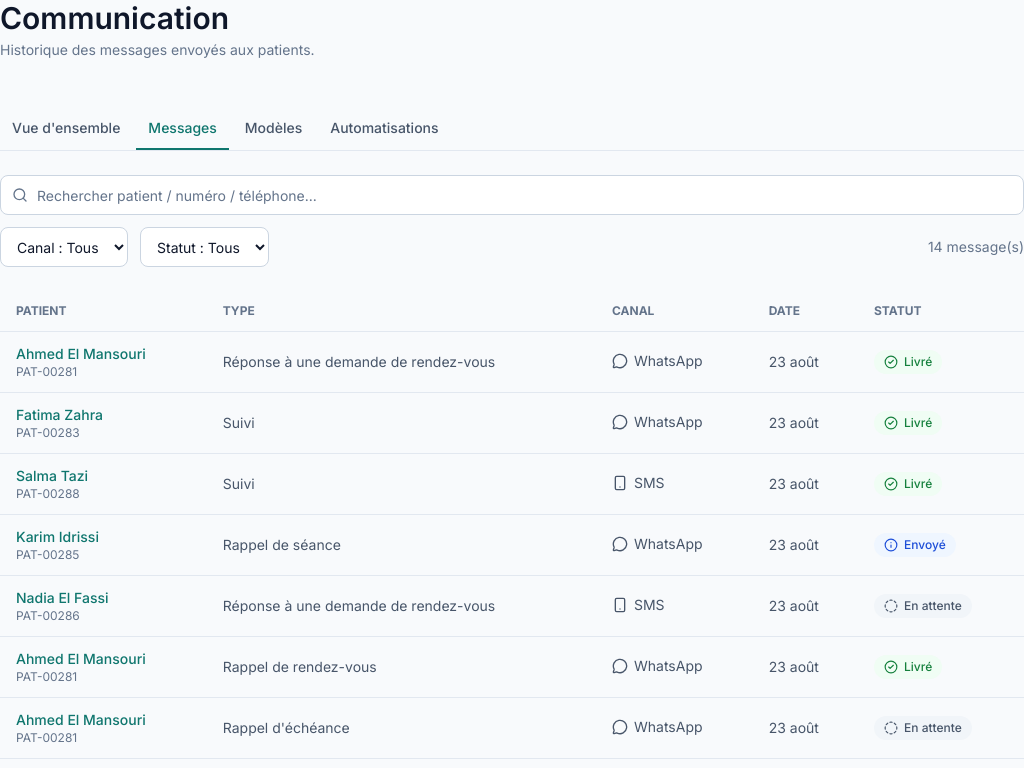
Test: MessagesPage › opens the read-only detail drawer with the message content
Click the button "Ahmed El Mansouri" next to "Rappel de rendez-vous" at (81, 659), box [16, 649, 146, 669]
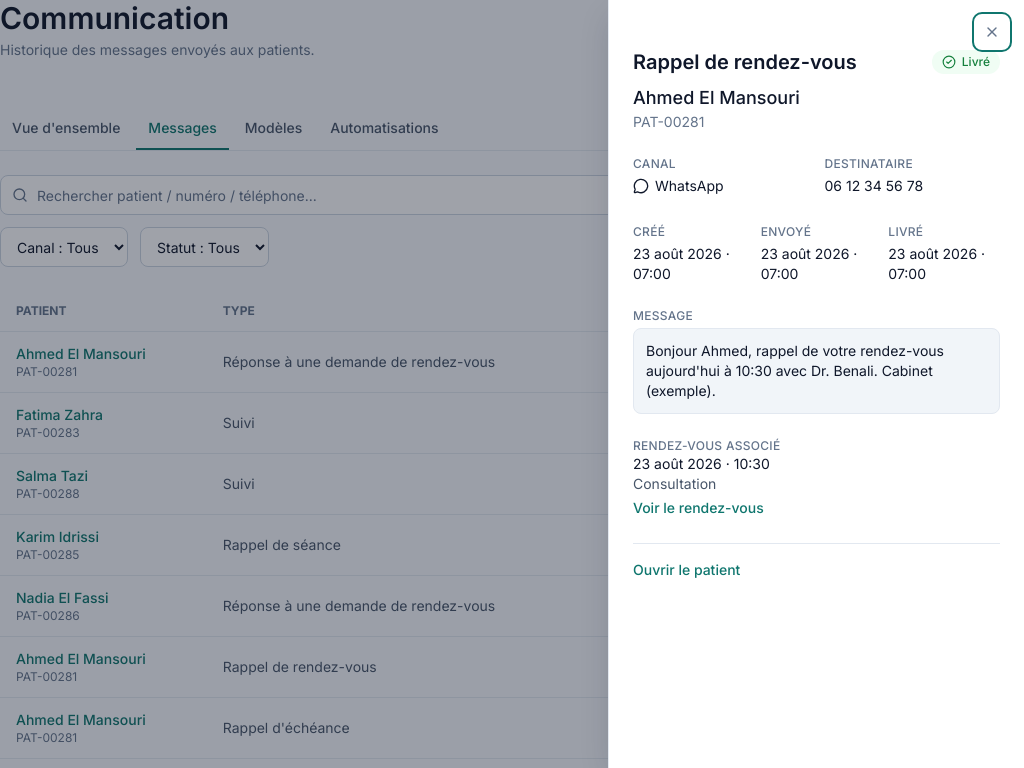
Expected: the text "PAT-00281" is shown, [633, 113, 704, 130]
Expected: the text "rappel de votre rendez-vous" is shown, [646, 342, 948, 399]
